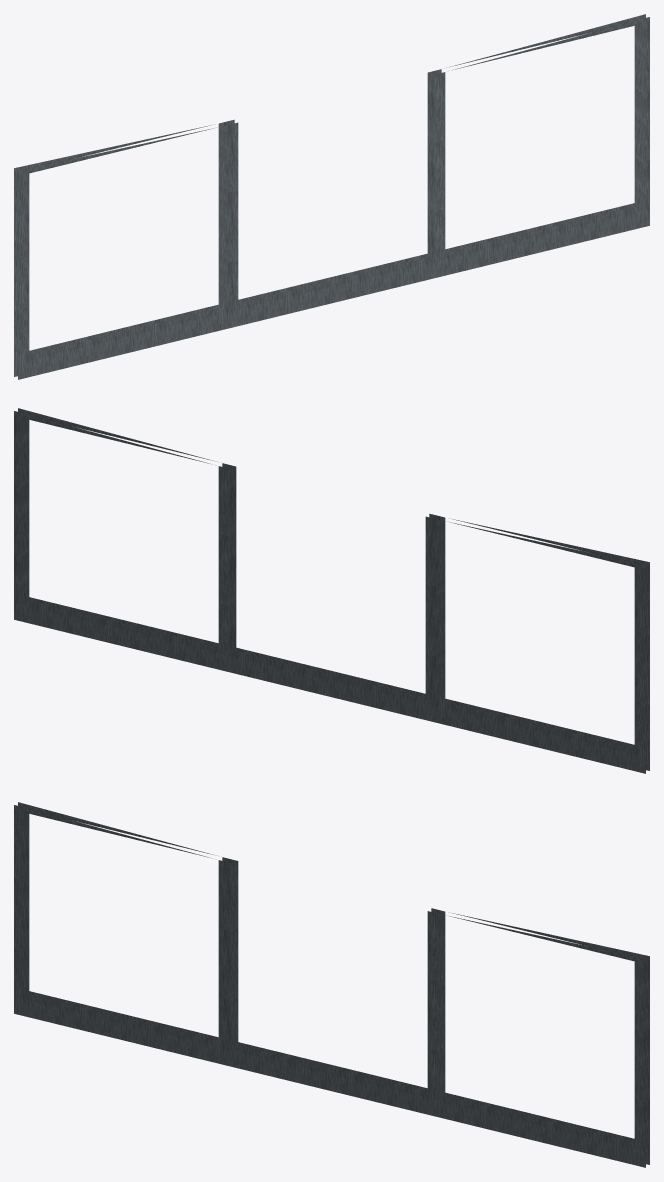
Rendered from floor_7.obj.
3 renders of one model, top to bottom at view 1: azimuth 30°, elevation 25°; view 2: azimuth 150°, elevation 25°; view 3: azimuth 330°, elevation 25°, orthographic.
Parts seen in each view (by area): view 1: floor_7; view 2: floor_7; view 3: floor_7.
Part boxes in pixels (x1,y1,x2,y2): floor_7: [14, 14, 649, 379]; floor_7: [14, 408, 649, 773]; floor_7: [14, 802, 649, 1167].
Size of the model in its own units: 9.5 by 3 by 0.1.
1 material, 1 textured.
